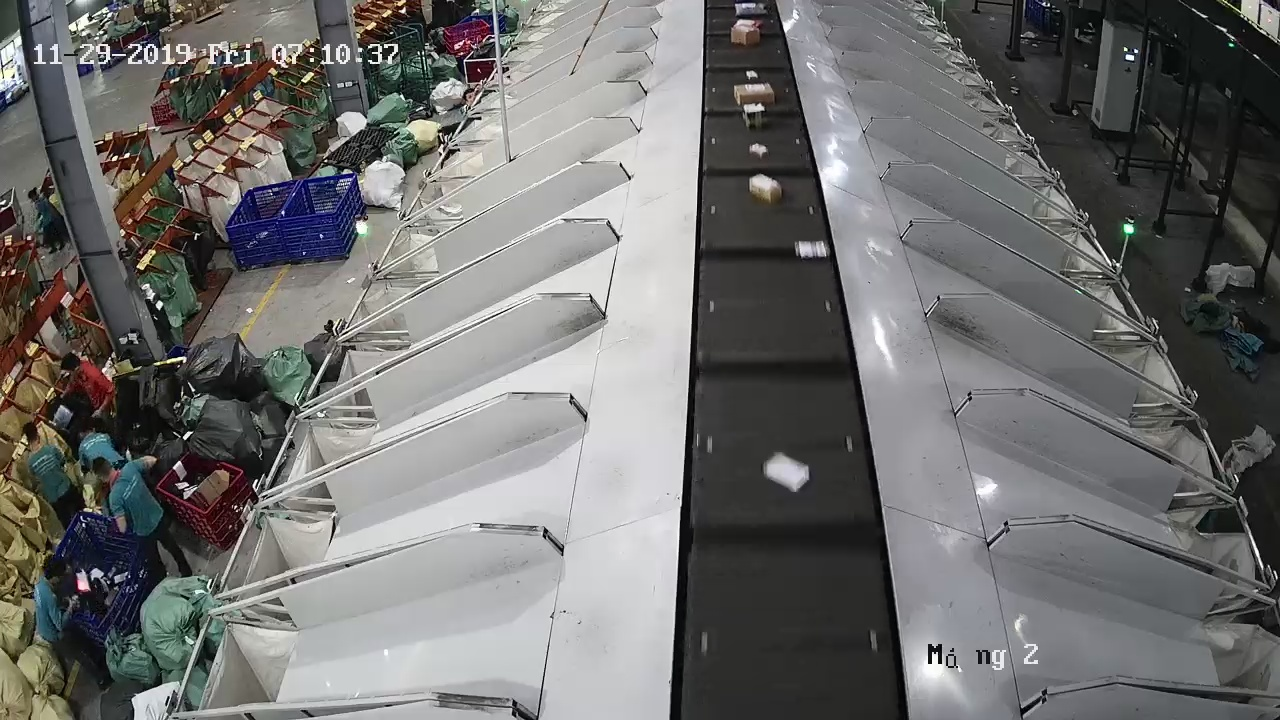parcel: (764, 454, 809, 493), (748, 173, 782, 205), (794, 240, 830, 260), (749, 142, 769, 160)
